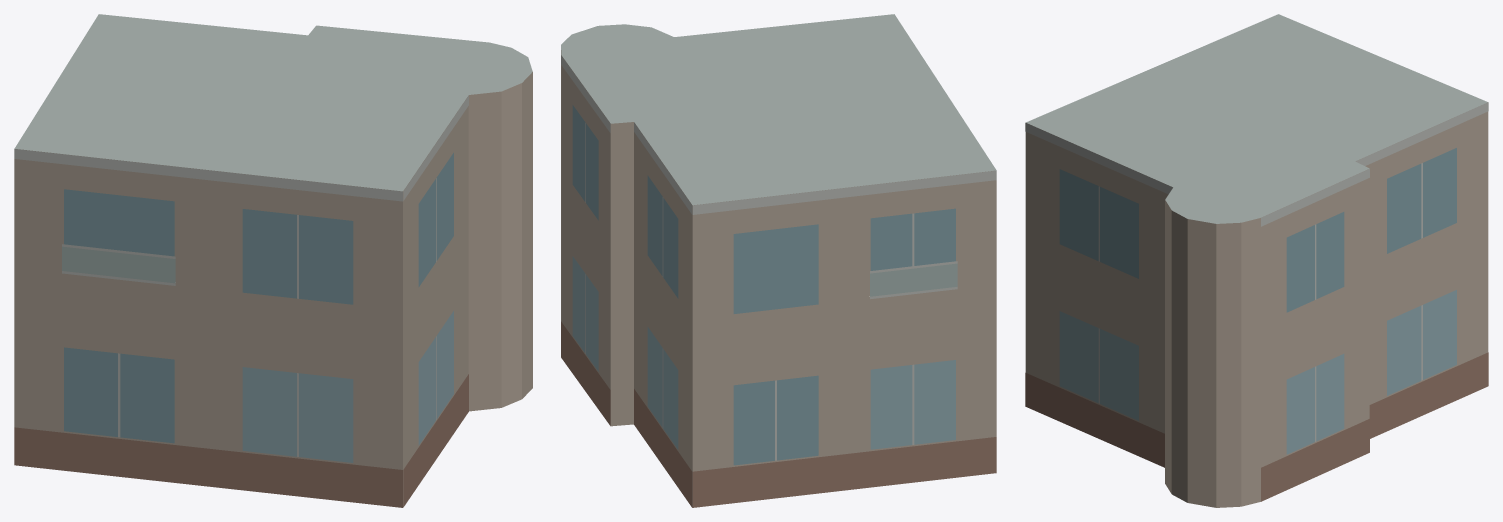
The model's file is survey-upis-32985889.glb.
The picture shows the model from 3 angles, left to right: view 1: azimuth 30°, elevation 25°; view 2: azimuth 150°, elevation 25°; view 3: azimuth 270°, elevation 25°; orthographic projection. The views are drawn at different scales.
Visible parts, largest first — view 1: survey-upis-32985889.tmp; view 2: survey-upis-32985889.tmp; view 3: survey-upis-32985889.tmp.
Boxes of the visible parts, x1,y1,x2,y2 form: survey-upis-32985889.tmp: (14, 14, 532, 507); survey-upis-32985889.tmp: (561, 14, 996, 507); survey-upis-32985889.tmp: (1025, 14, 1488, 507).
Bounding box in the file's own units: 12.05 × 7.6 × 11.23.
